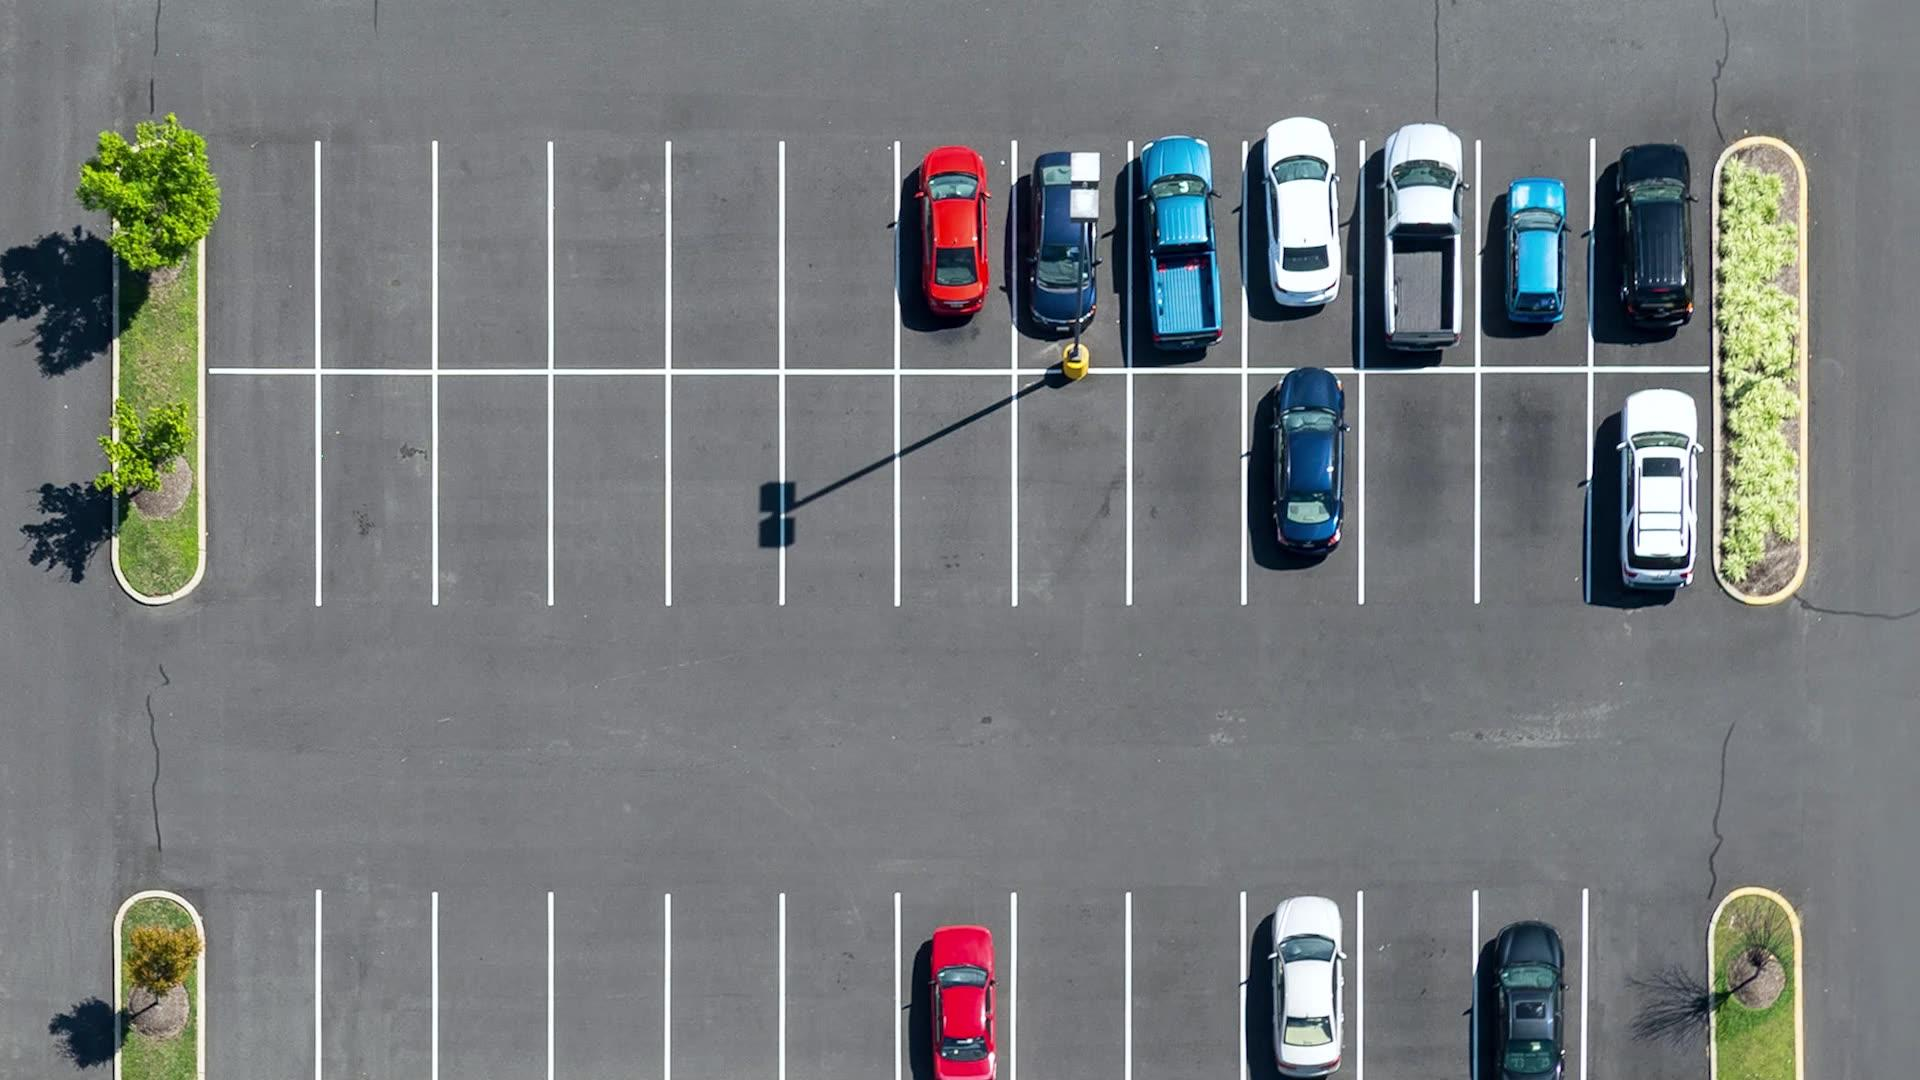occupied: (1245, 371, 1362, 603), (1245, 142, 1364, 371), (897, 142, 1014, 372), (1014, 142, 1130, 371), (1362, 142, 1478, 371), (1130, 142, 1245, 371), (1478, 141, 1593, 369), (1244, 894, 1361, 1077), (898, 895, 1014, 1077), (1476, 890, 1585, 1077)
vacant: (897, 372, 1014, 604), (1361, 371, 1478, 603), (1129, 371, 1245, 604), (435, 372, 551, 604), (551, 372, 667, 604), (1476, 369, 1592, 601), (319, 372, 435, 603), (782, 371, 897, 604), (1014, 371, 1129, 604), (551, 144, 669, 372), (319, 144, 435, 373), (435, 144, 551, 372), (782, 144, 897, 372), (669, 372, 782, 603), (669, 144, 782, 372), (318, 891, 434, 1079), (1360, 893, 1476, 1077), (434, 895, 551, 1077), (782, 897, 899, 1079), (1127, 894, 1244, 1077), (551, 895, 667, 1077), (1013, 895, 1129, 1077), (669, 897, 782, 1077)
